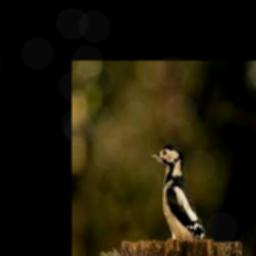Woodpecker: (149, 145, 207, 240)
